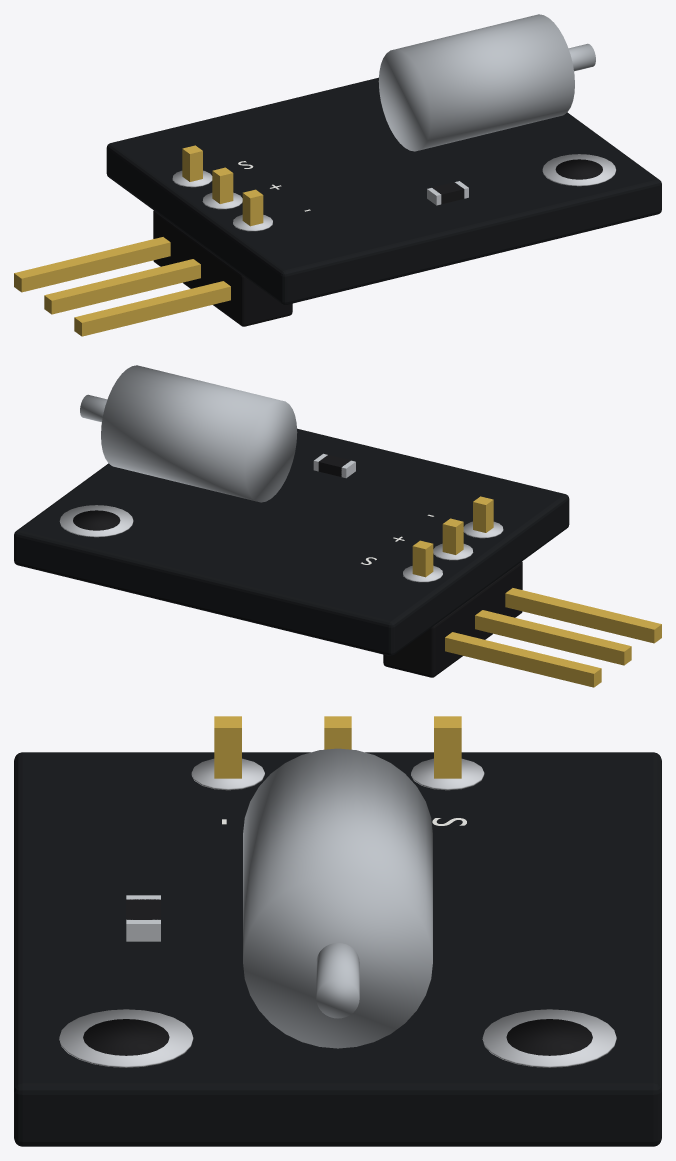
File: vibration-sensor.glb
3 renders of one model, top to bottom at view 1: azimuth 30°, elevation 25°; view 2: azimuth 150°, elevation 25°; view 3: azimuth 270°, elevation 25°, orthographic. The views are drawn at different scales.
Visible parts, largest first — view 1: pcb.001, part, header.001, pin_h.004, pin_h.005, pin_h.003, hole_ring.003, hole.003, pin_v.004, pin_v.005, pin_v.003, part.001; view 2: pcb.001, part, header.001, pin_h.004, pin_h.003, pin_h.005, hole_ring.002, hole.002, pin_v.003, pin_v.004, pin_v.005, part.001; view 3: pcb.001, part, hole_ring.002, hole_ring.003, part.001, hole.002, hole.003, pin_v.003, pin_v.005, pad.003, pad.005, pin_v.004 (+2 smaller).
Part boxes in pixels (<box>): pcb.001: <box>106,77,661,304</box>; part: <box>378,14,574,151</box>; header.001: <box>153,210,292,326</box>; pin_h.004: <box>44,259,200,314</box>; pin_h.005: <box>74,281,230,336</box>; pin_h.003: <box>14,237,170,292</box>; hole_ring.003: <box>542,154,616,186</box>; hole.003: <box>555,159,602,179</box>; pin_v.004: <box>212,167,233,203</box>; pin_v.005: <box>242,189,263,226</box>; pin_v.003: <box>182,145,202,181</box>; part.001: <box>568,43,595,71</box>; pcb.001: <box>14,428,569,655</box>; part: <box>101,365,297,502</box>; header.001: <box>383,561,522,677</box>; pin_h.004: <box>475,610,631,665</box>; pin_h.003: <box>445,632,601,687</box>; pin_h.005: <box>505,588,661,643</box>; hole_ring.002: <box>59,505,133,537</box>; hole.002: <box>73,510,120,530</box>; pin_v.003: <box>412,540,433,577</box>; pin_v.004: <box>442,518,463,554</box>; pin_v.005: <box>473,496,493,532</box>; part.001: <box>80,394,107,422</box>; pcb.001: <box>14,752,661,1146</box>; part: <box>243,748,432,1048</box>; hole_ring.002: <box>482,1009,616,1067</box>; hole_ring.003: <box>59,1009,193,1067</box>; part.001: <box>316,943,359,1018</box>; hole.002: <box>506,1019,592,1055</box>; hole.003: <box>83,1019,169,1055</box>; pin_v.003: <box>434,716,461,778</box>; pin_v.005: <box>214,716,241,778</box>; pad.003: <box>411,758,484,790</box>; pad.005: <box>191,758,264,790</box>; pin_v.004: <box>324,716,351,749</box>.
Bounding box in the file's own units: 0.0264 × 0.0089 × 0.015.
